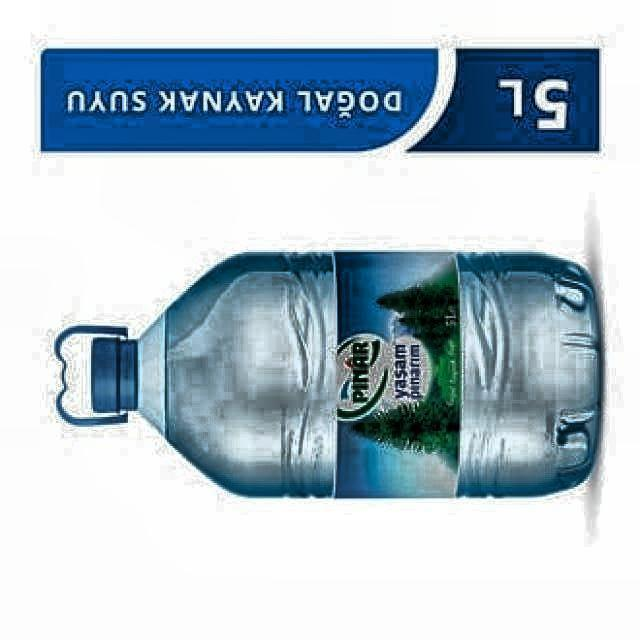plastic: (55, 254, 600, 497)
